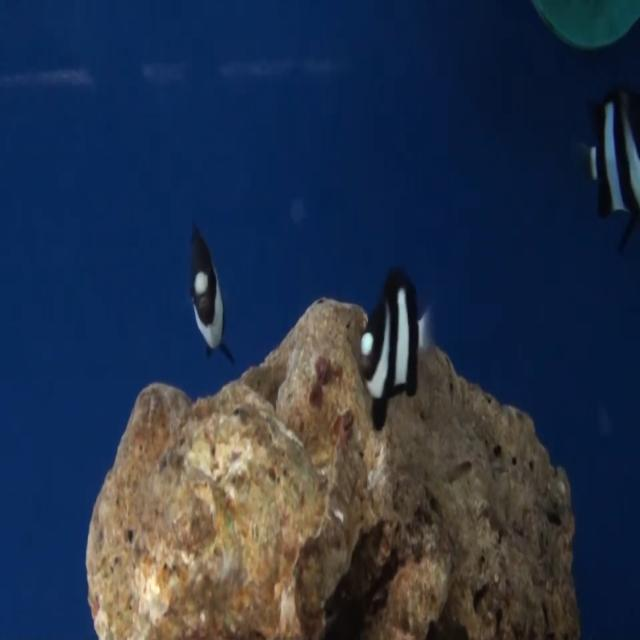ThreeStripedDamselfish: (361, 268, 429, 408), (188, 226, 234, 362)
